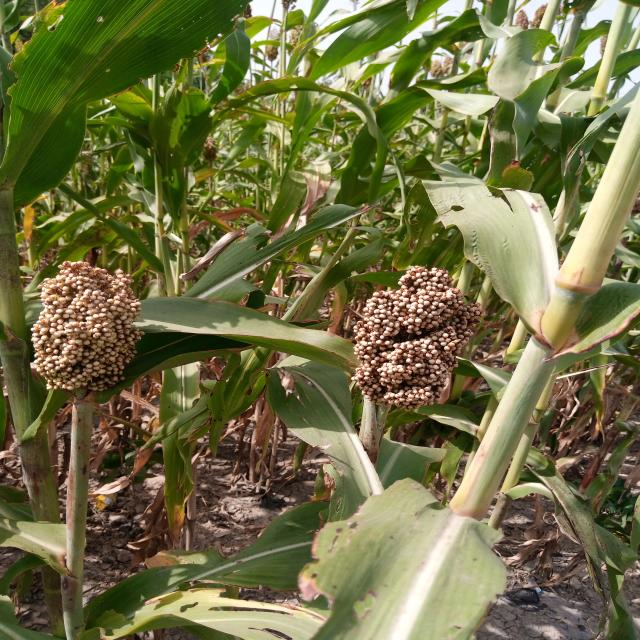UnripeSorghum: (15, 231, 158, 404), (347, 254, 497, 416)
